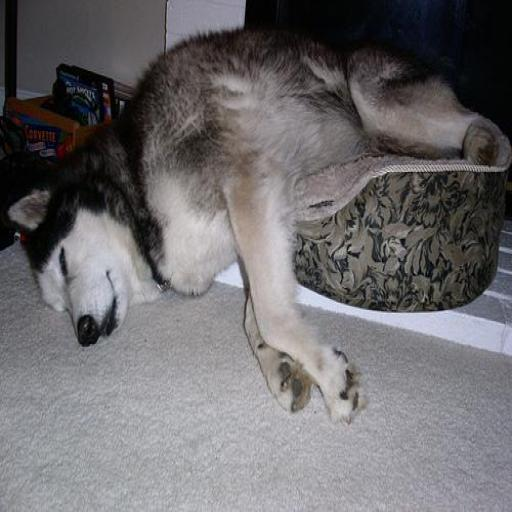dog_face: (6, 197, 136, 340)
